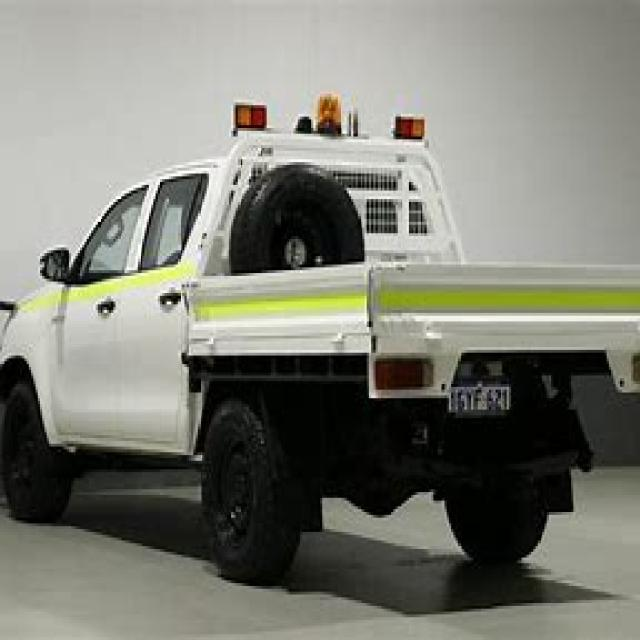light_vehicle: (0, 108, 638, 595)
